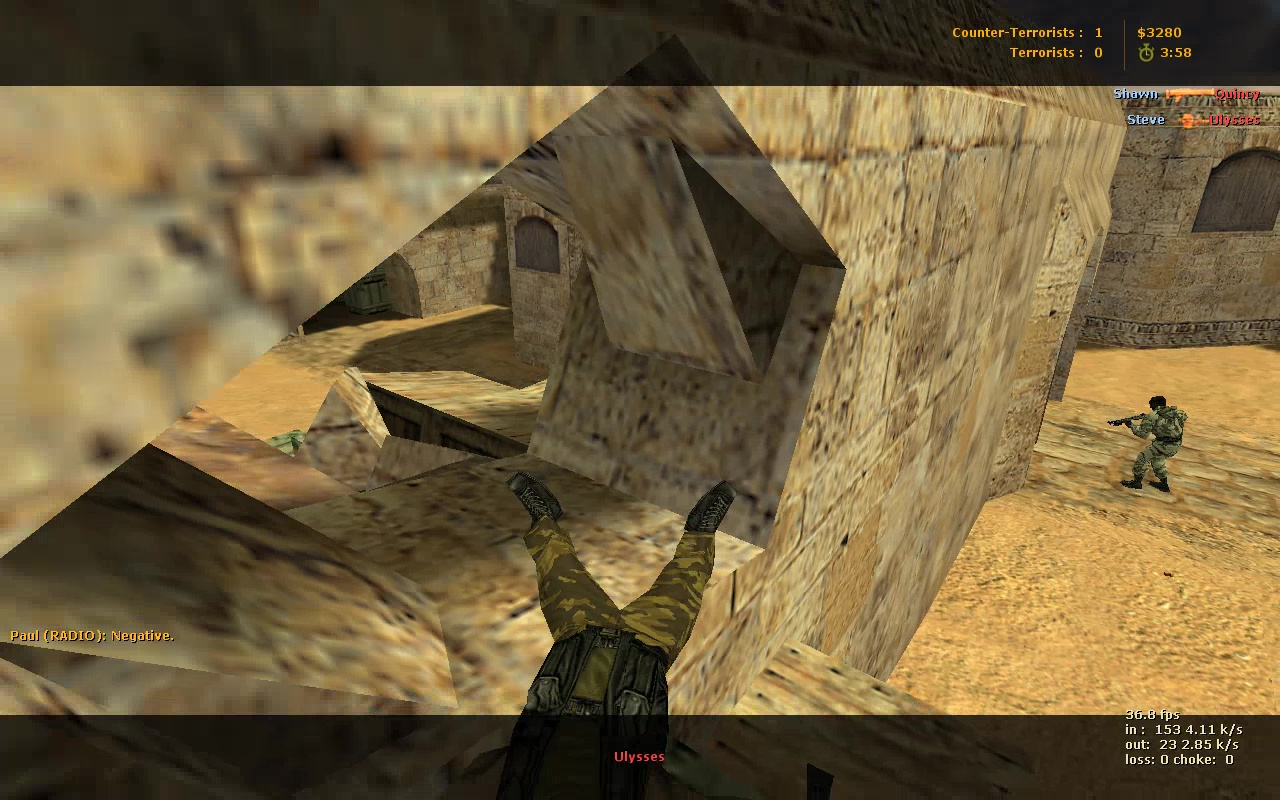dead: (496, 469, 733, 766)
terr2: (1119, 392, 1199, 505)
